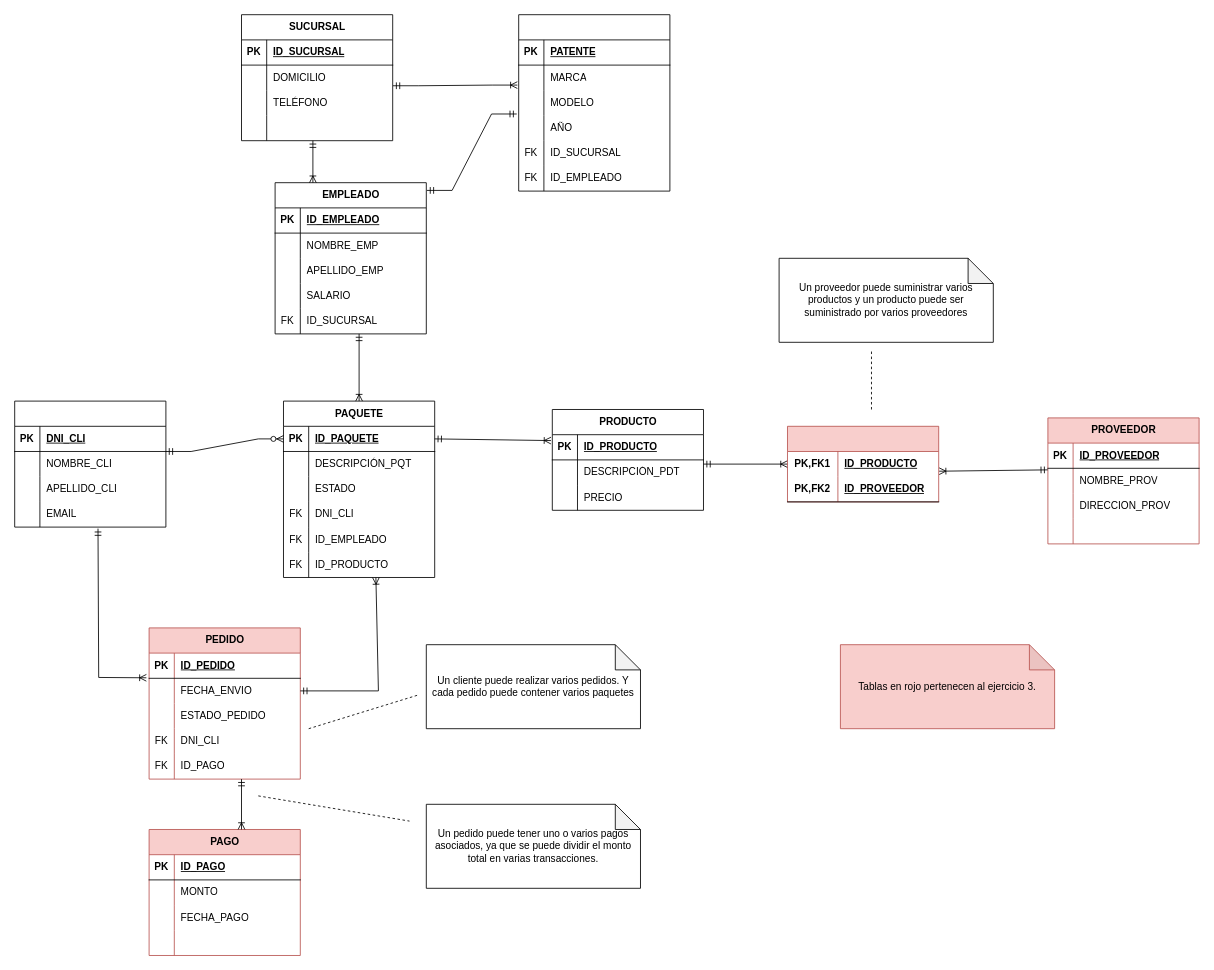
Some shapes in this 1214 by 970 pixel diagram are drawn without their labels. The box of each missing label's shape, as (x1, y1, x2, y2) in pixels:
AUTO: (518, 14, 670, 191)
CLIENTE: (14, 400, 166, 527)
PROD_PROV: (787, 425, 939, 502)
